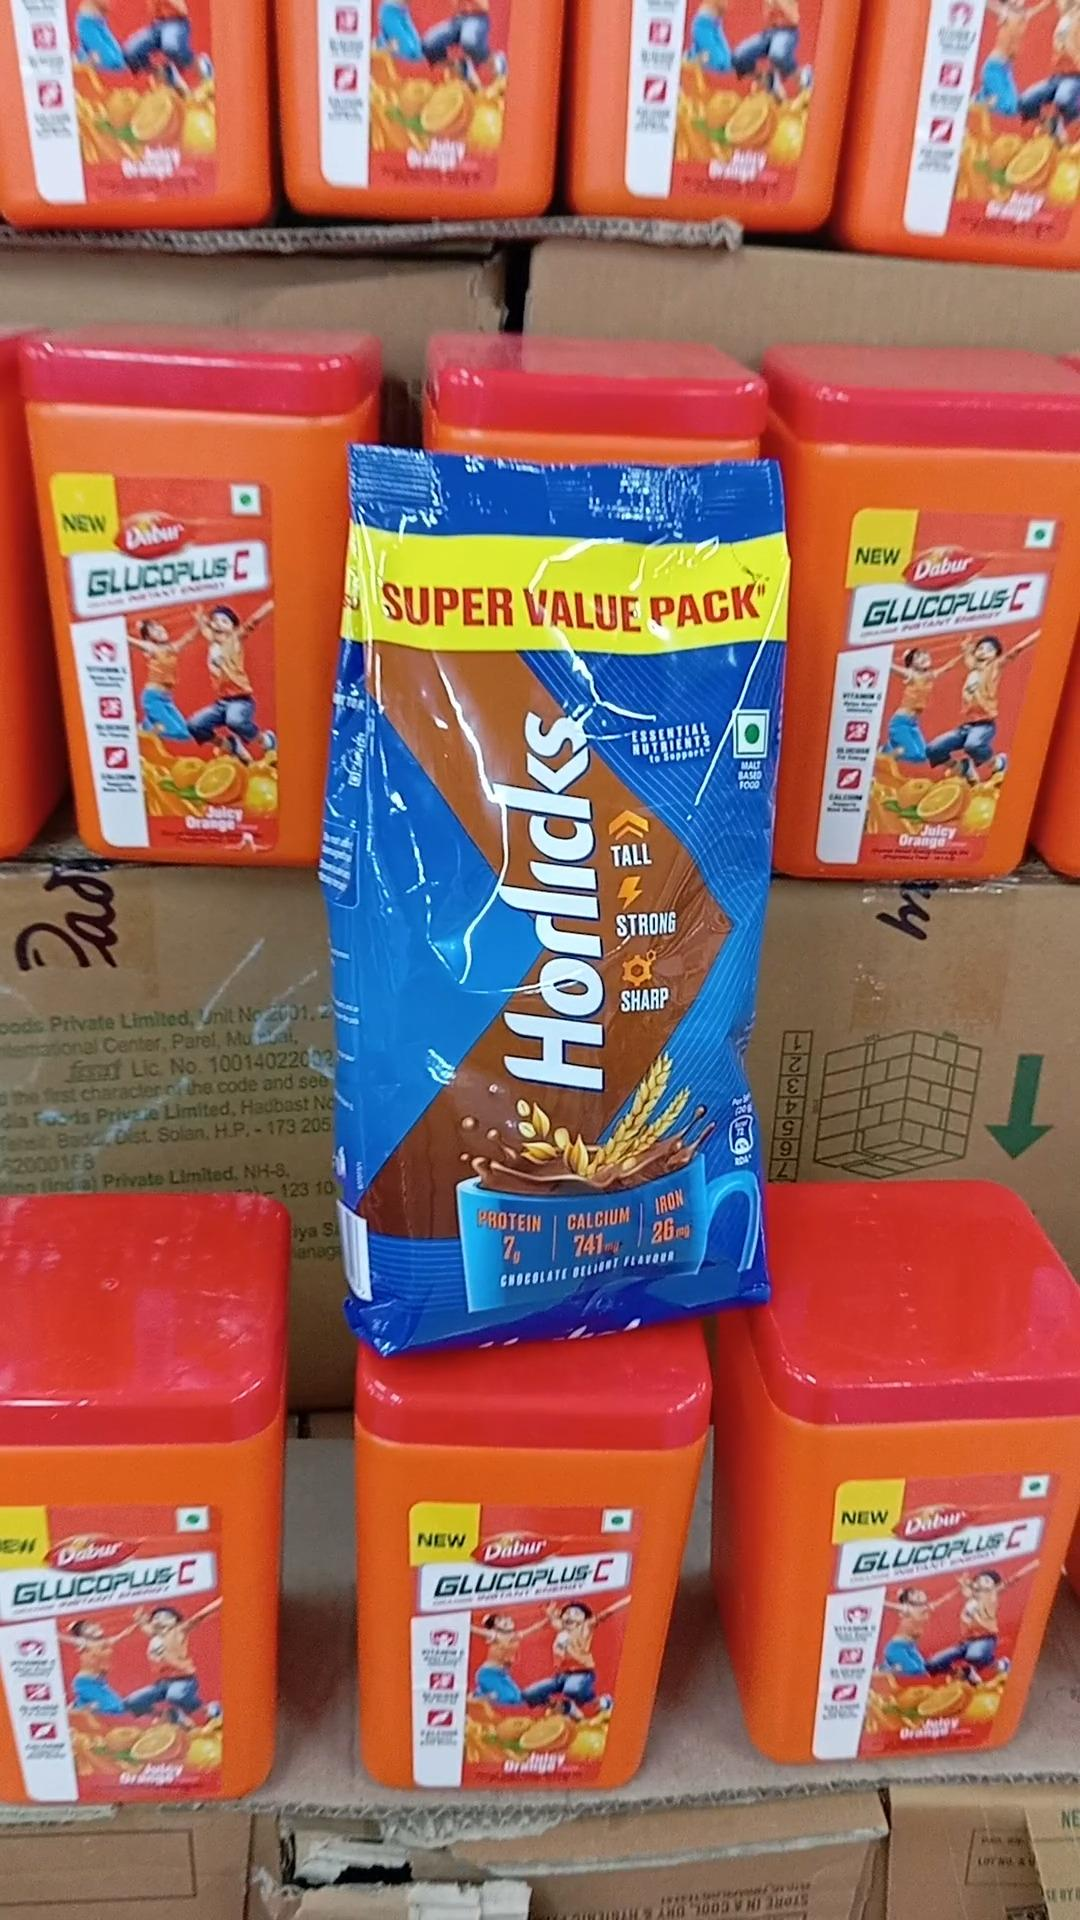HORLICK_CHOCOLATE_750_G_POUCH: (338, 435, 787, 1324)
